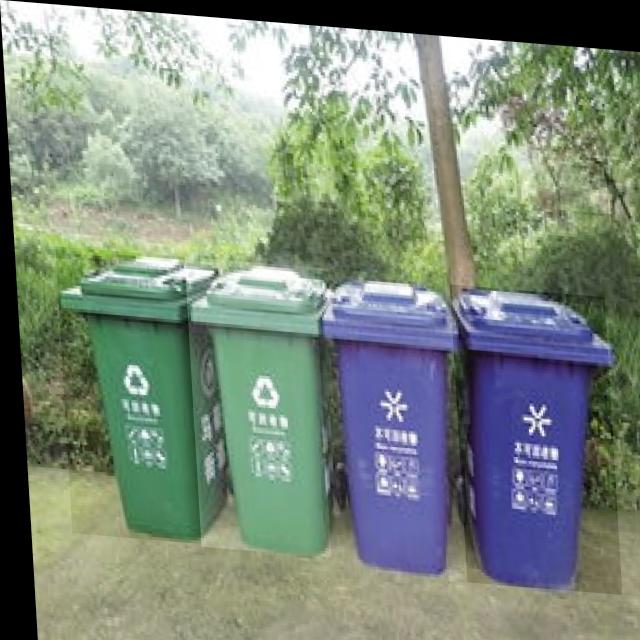garbage_bin: (446, 277, 616, 585), (52, 246, 224, 543), (182, 254, 341, 553), (312, 265, 462, 570)
